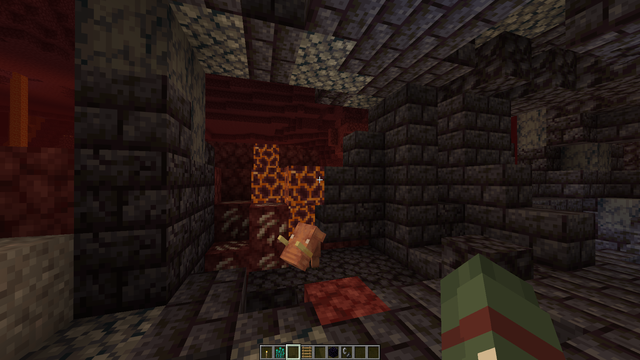quartz: (210, 199, 294, 273)
